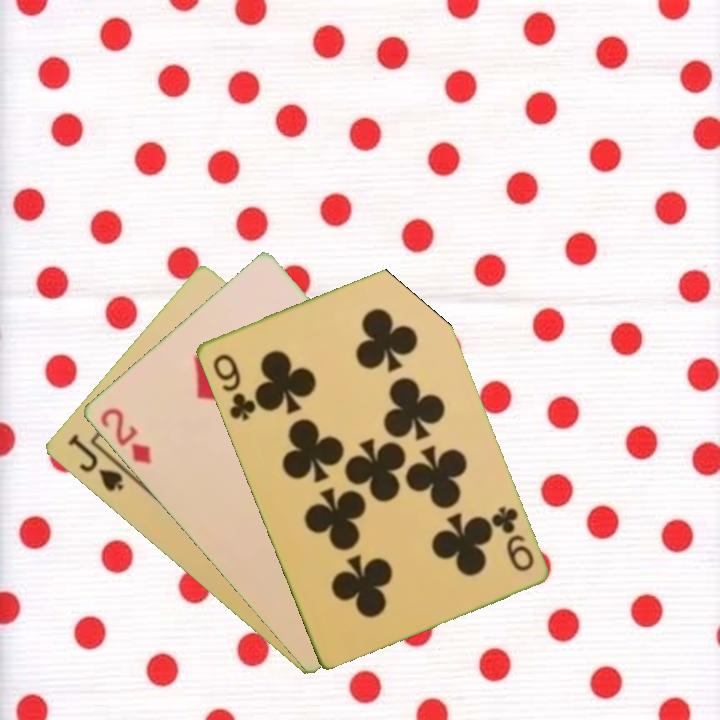2d: (96, 404, 154, 467)
9c: (208, 349, 258, 424), (487, 502, 537, 575)
Js: (64, 430, 126, 495)
